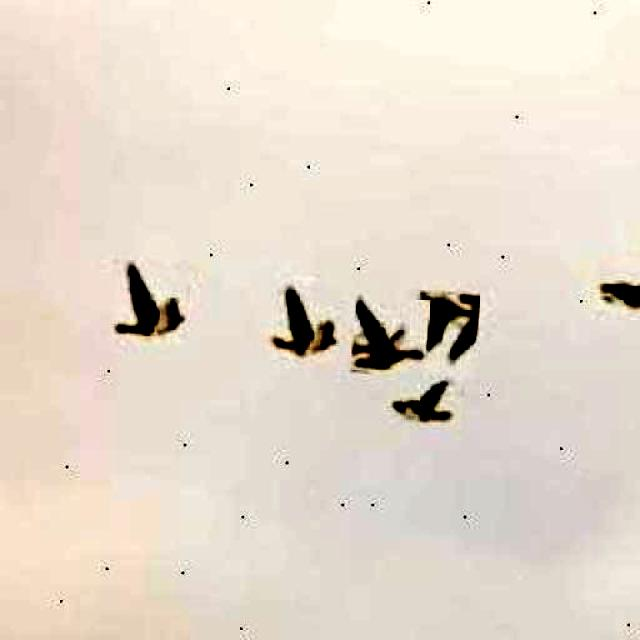airplane: (400, 288, 478, 378), (350, 294, 430, 378), (111, 259, 189, 345), (265, 282, 341, 362), (390, 371, 462, 425), (594, 266, 640, 314)
